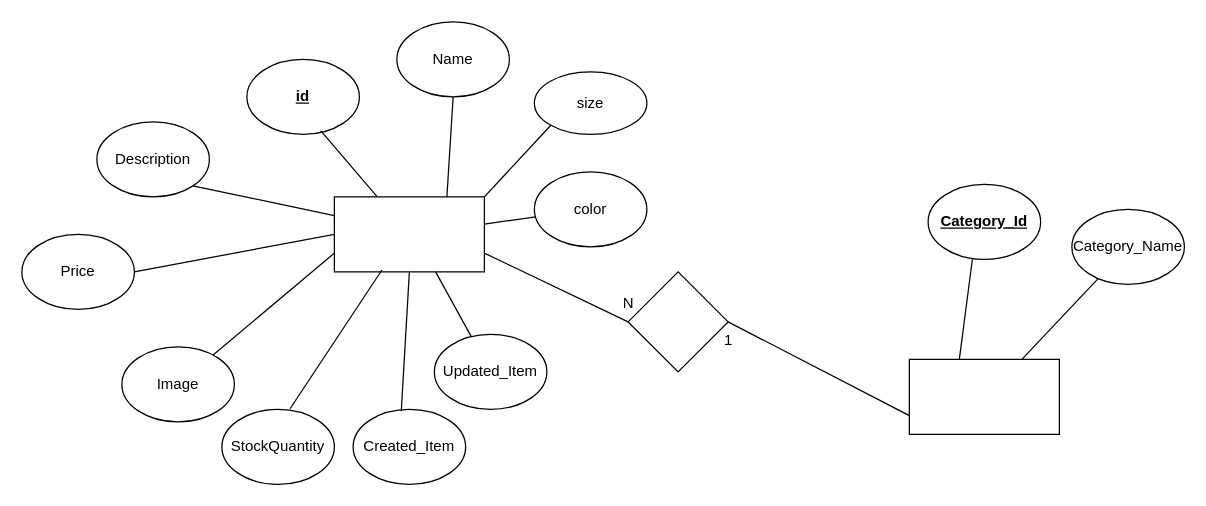
The diagram is 1206 pixels wide and 506 high, and some of its shapes have lost their labels. The box of each missing label's shape, as (x1, y1, x2, y2) in pixels:
Categories: (908, 358, 1059, 434)
Products: (333, 196, 484, 272)
tillhör: (627, 271, 728, 372)
